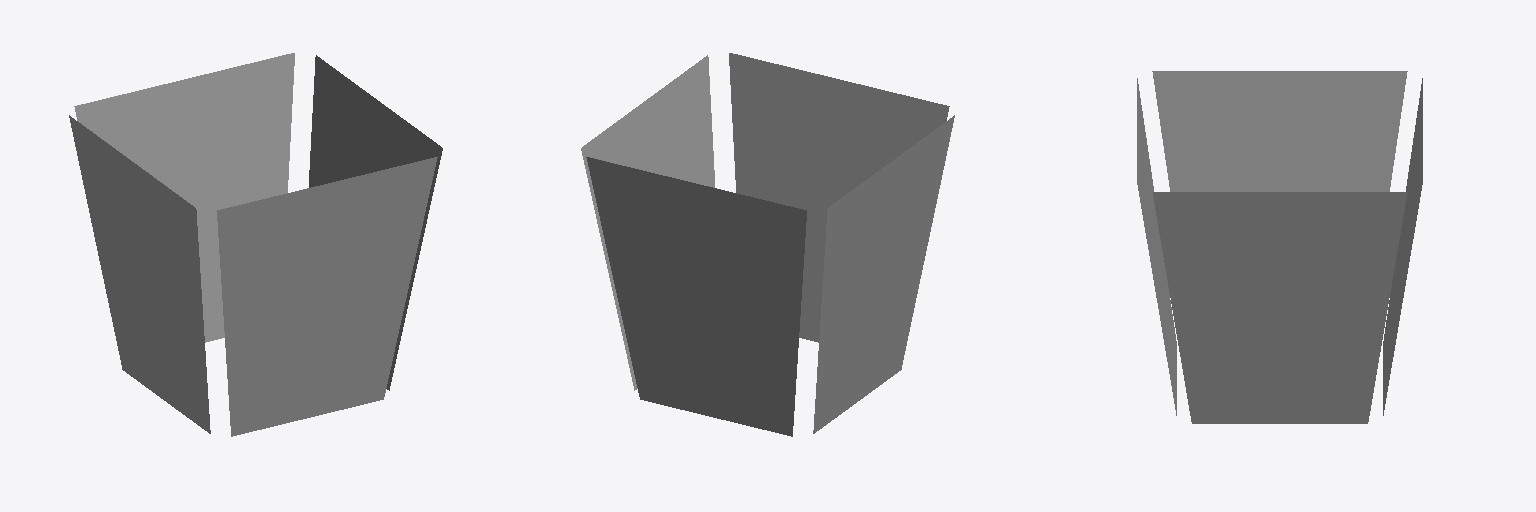
File: lamp_glass.obj
3 views of the same model, side by side, from view 1: azimuth 30°, elevation 25°; view 2: azimuth 150°, elevation 25°; view 3: azimuth 270°, elevation 25° (orthographic).
Parts seen in each view (by area): view 1: lampa_sklo_rv_lamp_post_3.001; view 2: lampa_sklo_rv_lamp_post_3.001; view 3: lampa_sklo_rv_lamp_post_3.001.
Part boxes in pixels (bbox=[...]): lampa_sklo_rv_lamp_post_3.001: bbox=[69, 53, 442, 436]; lampa_sklo_rv_lamp_post_3.001: bbox=[581, 53, 954, 436]; lampa_sklo_rv_lamp_post_3.001: bbox=[1137, 71, 1422, 423].
Bounding box in the file's own units: 0.4189 × 0.4039 × 0.4189.